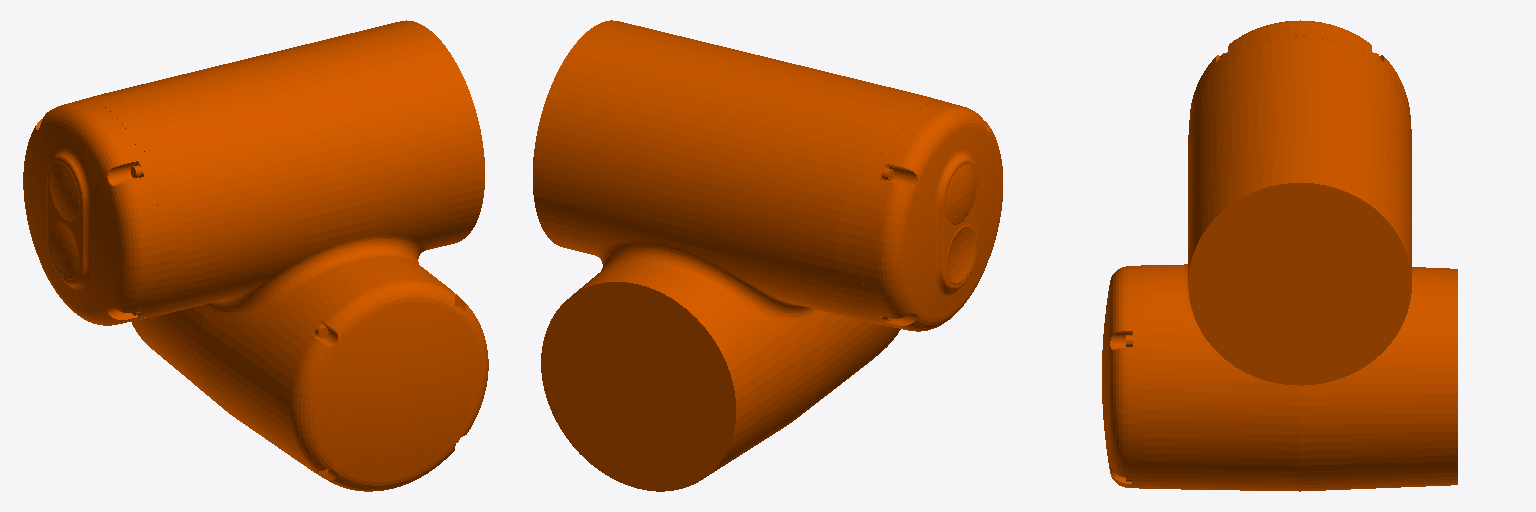
URDF robot description (CRB15000_12_127):
<?xml version="1.0" ?>
<robot name="CRB15000_12_127">

<link name="base_link">
  <inertial>
    <origin xyz="-0.0011656606666003635 -0.00011127786600189429 0.09856917133626068" rpy="0 0 0"/>
    <mass value="43.32183419472872"/>
    <inertia ixx="0.254824" iyy="0.26074" izz="0.191484" ixy="-0.000567" iyz="-0.000372" ixz="-0.003894"/>
  </inertial>
  <visual>
    <origin xyz="0 0 0" rpy="0 0 0"/>
    <geometry>
      <mesh filename="meshes/base_link.stl" scale="0.001 0.001 0.001"/>
    </geometry>
  </visual>
  <collision>
    <origin xyz="0 0 0" rpy="0 0 0"/>
    <geometry>
      <mesh filename="meshes/base_link.stl" scale="0.001 0.001 0.001"/>
    </geometry>
  </collision>
</link>

<link name="CRB15000_12kg_127_Omnicore_rev00_LINK01_CAD_1">
  <inertial>
    <origin xyz="-2.953604310759913e-07 0.004410241344758071 0.135757118326414" rpy="0 0 0"/>
    <mass value="41.02562588128756"/>
    <inertia ixx="0.236926" iyy="0.184428" izz="0.192336" ixy="-1e-06" iyz="-0.003705" ixz="0.0"/>
  </inertial>
  <visual>
    <origin xyz="0.0 -0.0 -0.181677" rpy="0 0 0"/>
    <geometry>
      <mesh filename="meshes/CRB15000_12kg_127_Omnicore_rev00_LINK01_CAD_1.stl" scale="0.001 0.001 0.001"/>
    </geometry>
  </visual>
  <collision>
    <origin xyz="0.0 -0.0 -0.181677" rpy="0 0 0"/>
    <geometry>
      <mesh filename="meshes/CRB15000_12kg_127_Omnicore_rev00_LINK01_CAD_1.stl" scale="0.001 0.001 0.001"/>
    </geometry>
  </collision>
</link>

<link name="CRB15000_12kg_127_Omnicore_rev00_LINK02_CAD_1">
  <inertial>
    <origin xyz="1.1298944563353409e-07 -0.05432141440967557 0.31995399683651154" rpy="0 0 0"/>
    <mass value="70.93334832681374"/>
    <inertia ixx="4.564663" iyy="4.624733" izz="0.149362" ixy="0.0" iyz="-0.067787" ixz="-2e-06"/>
  </inertial>
  <visual>
    <origin xyz="-0.0 0.09615 -0.338" rpy="0 0 0"/>
    <geometry>
      <mesh filename="meshes/CRB15000_12kg_127_Omnicore_rev00_LINK02_CAD_1.stl" scale="0.001 0.001 0.001"/>
    </geometry>
  </visual>
  <collision>
    <origin xyz="-0.0 0.09615 -0.338" rpy="0 0 0"/>
    <geometry>
      <mesh filename="meshes/CRB15000_12kg_127_Omnicore_rev00_LINK02_CAD_1.stl" scale="0.001 0.001 0.001"/>
    </geometry>
  </collision>
</link>

<link name="CRB15000_12kg_127_Omnicore_rev00_LINK03_CAD_1">
  <inertial>
    <origin xyz="0.012899169793532008 0.09403704088620901 0.024906948840264675" rpy="0 0 0"/>
    <mass value="26.381731962312585"/>
    <inertia ixx="0.135784" iyy="0.109626" izz="0.102204" ixy="0.002633" iyz="0.005085" ixz="-0.024959"/>
  </inertial>
  <visual>
    <origin xyz="-0.0 0.0863 -1.045" rpy="0 0 0"/>
    <geometry>
      <mesh filename="meshes/CRB15000_12kg_127_Omnicore_rev00_LINK03_CAD_1.stl" scale="0.001 0.001 0.001"/>
    </geometry>
  </visual>
  <collision>
    <origin xyz="-0.0 0.0863 -1.045" rpy="0 0 0"/>
    <geometry>
      <mesh filename="meshes/CRB15000_12kg_127_Omnicore_rev00_LINK03_CAD_1.stl" scale="0.001 0.001 0.001"/>
    </geometry>
  </collision>
</link>

<link name="CRB15000_12kg_127_Omnicore_rev00_LINK04_CAD_1">
  <inertial>
    <origin xyz="0.19839211176894214 0.05675429813708446 5.228426895875771e-07" rpy="0 0 0"/>
    <mass value="27.702812566356673"/>
    <inertia ixx="0.097386" iyy="0.497655" izz="0.555153" ixy="-0.13931" iyz="1e-06" ixz="6e-06"/>
  </inertial>
  <visual>
    <origin xyz="-0.097 0.0 -1.155" rpy="0 0 0"/>
    <geometry>
      <mesh filename="meshes/CRB15000_12kg_127_Omnicore_rev00_LINK04_CAD_1.stl" scale="0.001 0.001 0.001"/>
    </geometry>
  </visual>
  <collision>
    <origin xyz="-0.097 0.0 -1.155" rpy="0 0 0"/>
    <geometry>
      <mesh filename="meshes/CRB15000_12kg_127_Omnicore_rev00_LINK04_CAD_1.stl" scale="0.001 0.001 0.001"/>
    </geometry>
  </collision>
</link>

<link name="CRB15000_12kg_127_Omnicore_rev00_LINK05_CAD_1">
  <inertial>
    <origin xyz="-0.014714796269106878 -0.07856678438355963 0.042754343919074955" rpy="0 0 0"/>
    <mass value="23.63754989165508"/>
    <inertia ixx="0.08996" iyy="0.106457" izz="0.085163" ixy="0.001414" iyz="-0.004125" ixz="0.012972"/>
  </inertial>
  <visual>
    <origin xyz="-0.534 -0.0745 -1.155" rpy="0 0 0"/>
    <geometry>
      <mesh filename="meshes/CRB15000_12kg_127_Omnicore_rev00_LINK05_CAD_1.stl" scale="0.001 0.001 0.001"/>
    </geometry>
  </visual>
  <collision>
    <origin xyz="-0.534 -0.0745 -1.155" rpy="0 0 0"/>
    <geometry>
      <mesh filename="meshes/CRB15000_12kg_127_Omnicore_rev00_LINK05_CAD_1.stl" scale="0.001 0.001 0.001"/>
    </geometry>
  </collision>
</link>

<link name="CRB15000_12kg_127_Omnicore_rev00_LINK06_CAD_1">
  <inertial>
    <origin xyz="0.012650716328436618 0.00023981671877066696 -0.00034191150328566344" rpy="0 0 0"/>
    <mass value="1.1500367505463056"/>
    <inertia ixx="0.001012" iyy="0.000597" izz="0.000601" ixy="-1e-06" iyz="-5e-06" ixz="1e-06"/>
  </inertial>
  <visual>
    <origin xyz="-0.6025 0.0 -1.235" rpy="0 0 0"/>
    <geometry>
      <mesh filename="meshes/CRB15000_12kg_127_Omnicore_rev00_LINK06_CAD_1.stl" scale="0.001 0.001 0.001"/>
    </geometry>
  </visual>
  <collision>
    <origin xyz="-0.6025 0.0 -1.235" rpy="0 0 0"/>
    <geometry>
      <mesh filename="meshes/CRB15000_12kg_127_Omnicore_rev00_LINK06_CAD_1.stl" scale="0.001 0.001 0.001"/>
    </geometry>
  </collision>
</link>

<joint name="j1" type="continuous">
  <origin xyz="0.0 0.0 0.181677" rpy="0 0 0"/>
  <parent link="base_link"/>
  <child link="CRB15000_12kg_127_Omnicore_rev00_LINK01_CAD_1"/>
  <axis xyz="-0.0 0.0 1.0"/>
</joint>

<joint name="j2" type="continuous">
  <origin xyz="0.0 -0.09615 0.156323" rpy="0 0 0"/>
  <parent link="CRB15000_12kg_127_Omnicore_rev00_LINK01_CAD_1"/>
  <child link="CRB15000_12kg_127_Omnicore_rev00_LINK02_CAD_1"/>
  <axis xyz="0.0 -1.0 -0.0"/>
</joint>

<joint name="j3" type="continuous">
  <origin xyz="0.0 0.00985 0.707" rpy="0 0 0"/>
  <parent link="CRB15000_12kg_127_Omnicore_rev00_LINK02_CAD_1"/>
  <child link="CRB15000_12kg_127_Omnicore_rev00_LINK03_CAD_1"/>
  <axis xyz="0.0 -1.0 -0.0"/>
</joint>

<joint name="j4" type="continuous">
  <origin xyz="0.097 0.0863 0.11" rpy="0 0 0"/>
  <parent link="CRB15000_12kg_127_Omnicore_rev00_LINK03_CAD_1"/>
  <child link="CRB15000_12kg_127_Omnicore_rev00_LINK04_CAD_1"/>
  <axis xyz="-1.0 0.0 -0.0"/>
</joint>

<joint name="j5" type="continuous">
  <origin xyz="0.437 0.0745 0.0" rpy="0 0 0"/>
  <parent link="CRB15000_12kg_127_Omnicore_rev00_LINK04_CAD_1"/>
  <child link="CRB15000_12kg_127_Omnicore_rev00_LINK05_CAD_1"/>
  <axis xyz="0.0 -1.0 0.0"/>
</joint>

<joint name="j6" type="continuous">
  <origin xyz="0.0685 -0.0745 0.08" rpy="0 0 0"/>
  <parent link="CRB15000_12kg_127_Omnicore_rev00_LINK05_CAD_1"/>
  <child link="CRB15000_12kg_127_Omnicore_rev00_LINK06_CAD_1"/>
  <axis xyz="-1.0 0.0 -0.0"/>
</joint>

</robot>

--- What the picture shows (computed from the rendered views, not written in the file) ---
3 views of the same robot in one strip: view 1: azimuth 30°, elevation 25°; view 2: azimuth 150°, elevation 25°; view 3: azimuth 270°, elevation 25° (orthographic).
Robot: CRB15000_12_127 — 7 links, 6 joints (6 continuous); root link base_link; default pose: every joint at zero.
Visible links, largest first — view 1: CRB15000_12kg_127_Omnicore_rev00_LINK05_CAD_1; view 2: CRB15000_12kg_127_Omnicore_rev00_LINK05_CAD_1; view 3: CRB15000_12kg_127_Omnicore_rev00_LINK05_CAD_1.
Boxes of the visible links, x1,y1,x2,y2 form: CRB15000_12kg_127_Omnicore_rev00_LINK05_CAD_1: (23,20,488,491); CRB15000_12kg_127_Omnicore_rev00_LINK05_CAD_1: (533,20,1002,491); CRB15000_12kg_127_Omnicore_rev00_LINK05_CAD_1: (1102,20,1457,491).
Size in the robot's own frame: 0.1955 by 0.168 by 0.1867 metres.
1 mesh visuals loaded from 7 distinct referenced files (1 binary STL); not drawn: 6 (reference not matched to a file when rendering).